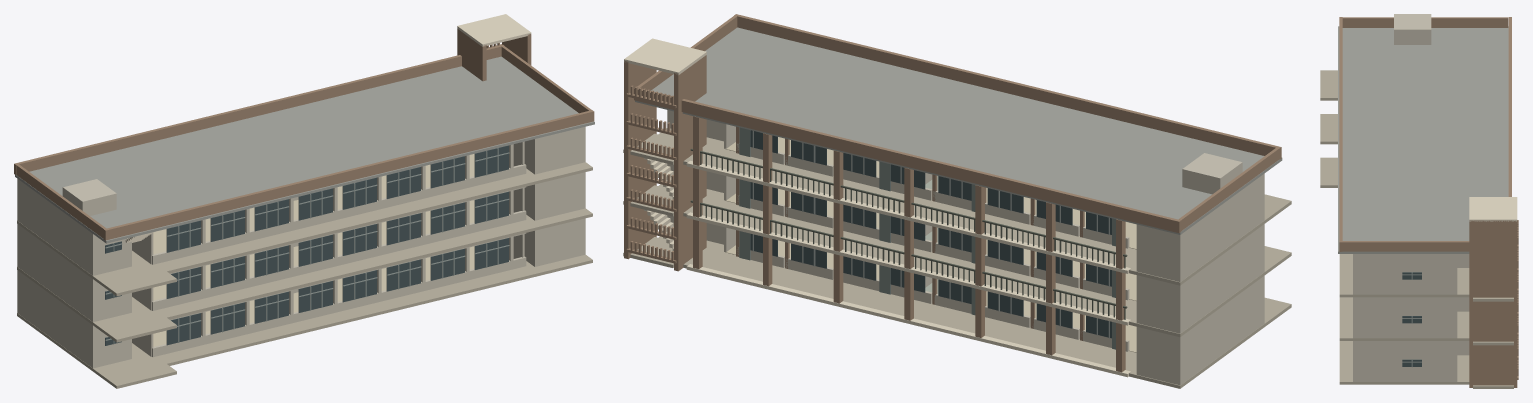
Rendered from science.glb.
3 views of the same model, side by side, from view 1: azimuth 30°, elevation 25°; view 2: azimuth 150°, elevation 25°; view 3: azimuth 270°, elevation 25° (orthographic). The views are drawn at different scales.
Visible parts, largest first — view 1: d1cbbb, a9aaa3, bfb8a6, 4e5e61, a88f78, 9da6a1, d7ceb6, e8dfca; view 2: a9aaa3, a88f78, d1cbbb, bfb8a6, 4e5e61, e8dfca, 646a5e, d7ceb6, 85928d, 9da6a1; view 3: a9aaa3, d1cbbb, a88f78, bfb8a6, e8dfca, 4e5e61.
Boxes of the visible parts, box(x1,y1,x2,y2) form: d1cbbb: box(17, 126, 585, 368); a9aaa3: box(15, 56, 594, 243); bfb8a6: box(17, 162, 592, 388); 4e5e61: box(105, 145, 508, 345); a88f78: box(14, 29, 594, 240); 9da6a1: box(105, 148, 509, 344); d7ceb6: box(153, 154, 474, 346); e8dfca: box(125, 14, 531, 242); a9aaa3: box(635, 27, 1282, 234); a88f78: box(624, 14, 1281, 372); d1cbbb: box(667, 110, 1264, 385); bfb8a6: box(623, 128, 1291, 388); 4e5e61: box(750, 130, 1111, 338); e8dfca: box(624, 38, 1130, 377); 646a5e: box(690, 148, 1127, 319); d7ceb6: box(725, 137, 1136, 352); 85928d: box(739, 127, 1115, 349); 9da6a1: box(752, 131, 1109, 338); a9aaa3: box(1338, 26, 1508, 253); d1cbbb: box(1353, 14, 1469, 381); a88f78: box(1339, 17, 1518, 387); bfb8a6: box(1320, 70, 1513, 388); e8dfca: box(1469, 197, 1517, 221); 4e5e61: box(1402, 272, 1421, 366).
Size of the model in its own units: 42.91 by 14.7 by 15.73.
